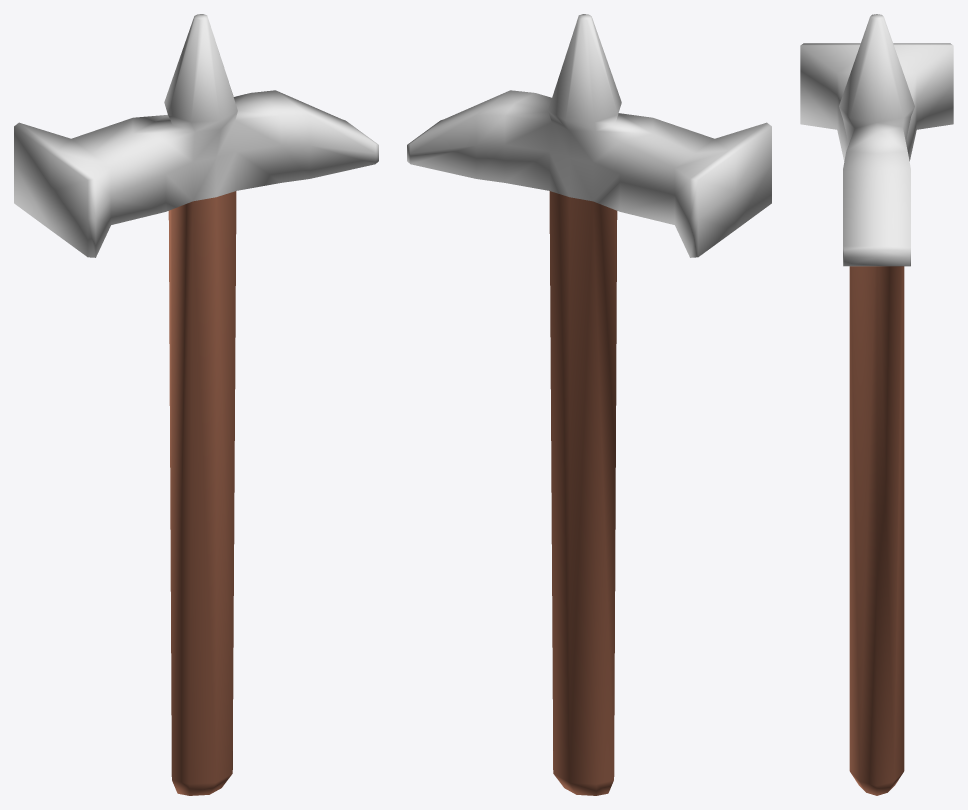
File: Hammer Small.fbx
The picture shows the model from 3 angles, left to right: view 1: azimuth 30°, elevation 25°; view 2: azimuth 150°, elevation 25°; view 3: azimuth 270°, elevation 25°; orthographic projection.
Parts seen in each view (by area): view 1: Warhammer; view 2: Warhammer; view 3: Warhammer.
Part boxes in pixels (left/top/right/bottom): Warhammer: left=14, top=14, right=378, bottom=795; Warhammer: left=407, top=14, right=771, bottom=795; Warhammer: left=800, top=14, right=953, bottom=795.
Bounding box in the file's own units: 30.46 × 72.05 × 13.02.
